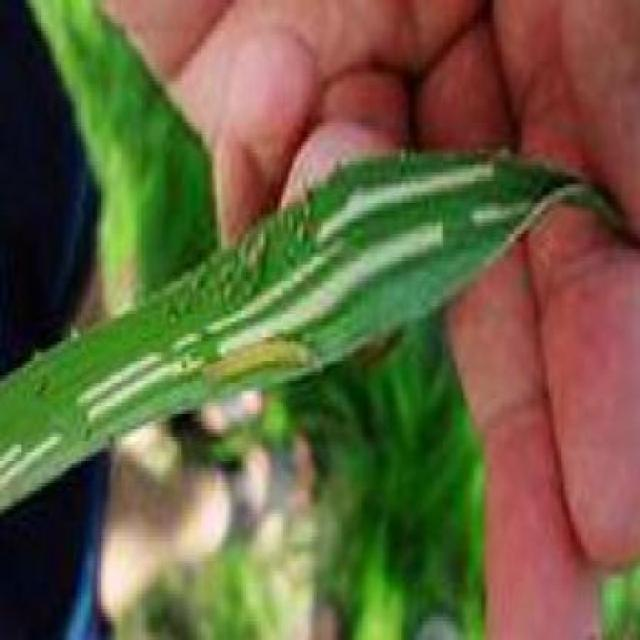leaf-folder: (196, 319, 327, 412)
